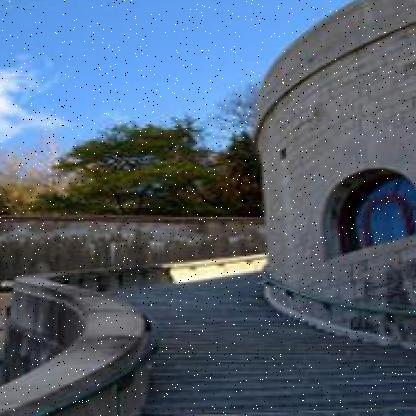stair_up: (108, 262, 396, 405)
